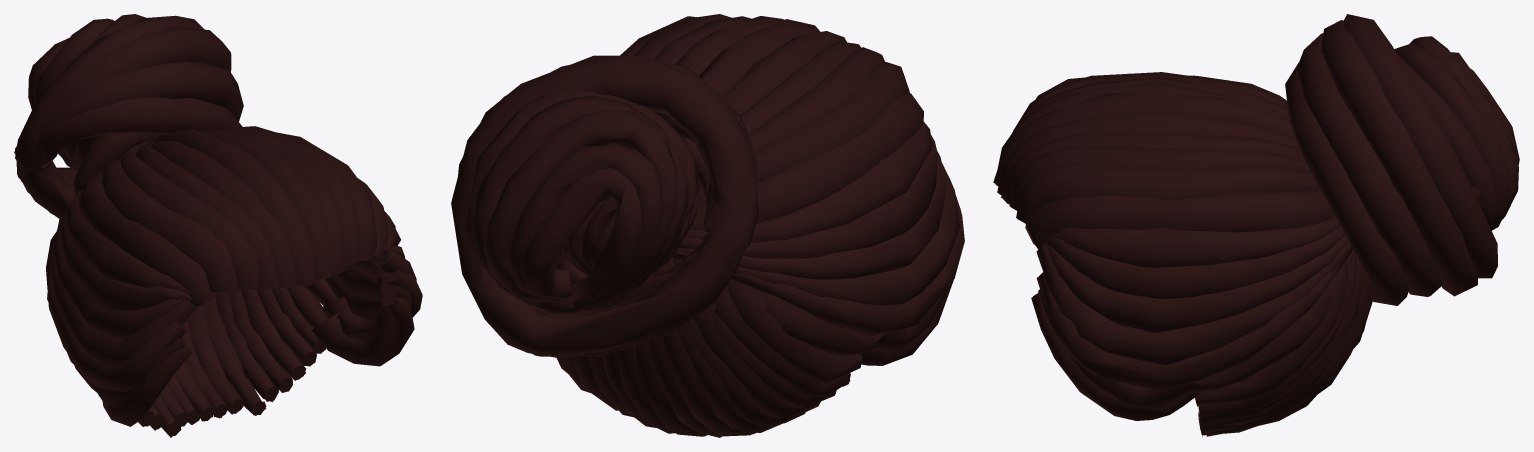
Rendered from hair-7-fdfec2ac.glb.
3 renders of one model, left to right at view 1: azimuth 30°, elevation 25°; view 2: azimuth 150°, elevation 25°; view 3: azimuth 270°, elevation 25°, orthographic. The views are drawn at different scales.
Parts seen in each view (by area): view 1: hair_7.001; view 2: hair_7.001; view 3: hair_7.001.
Boxes of the visible parts, x1,y1,x2,y2 form: hair_7.001: (14, 14, 422, 437); hair_7.001: (451, 14, 964, 437); hair_7.001: (993, 14, 1519, 437).
Bounding box in the file's own units: 1.8 × 2 × 2.47.
